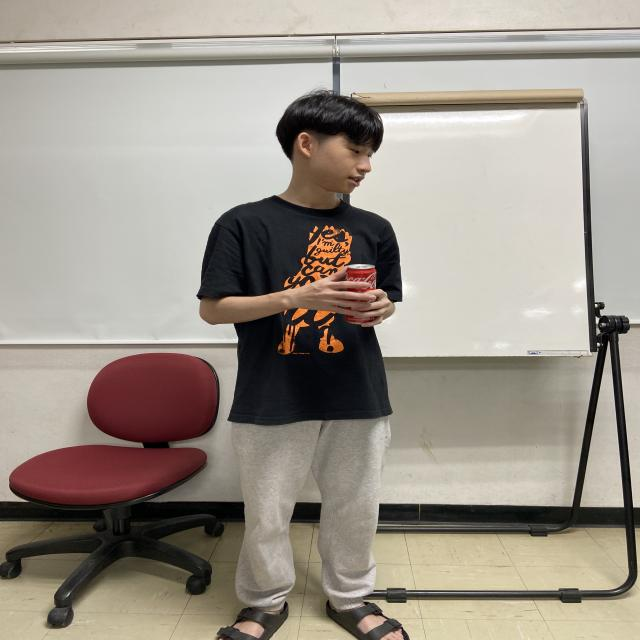can: (346, 264, 378, 326)
